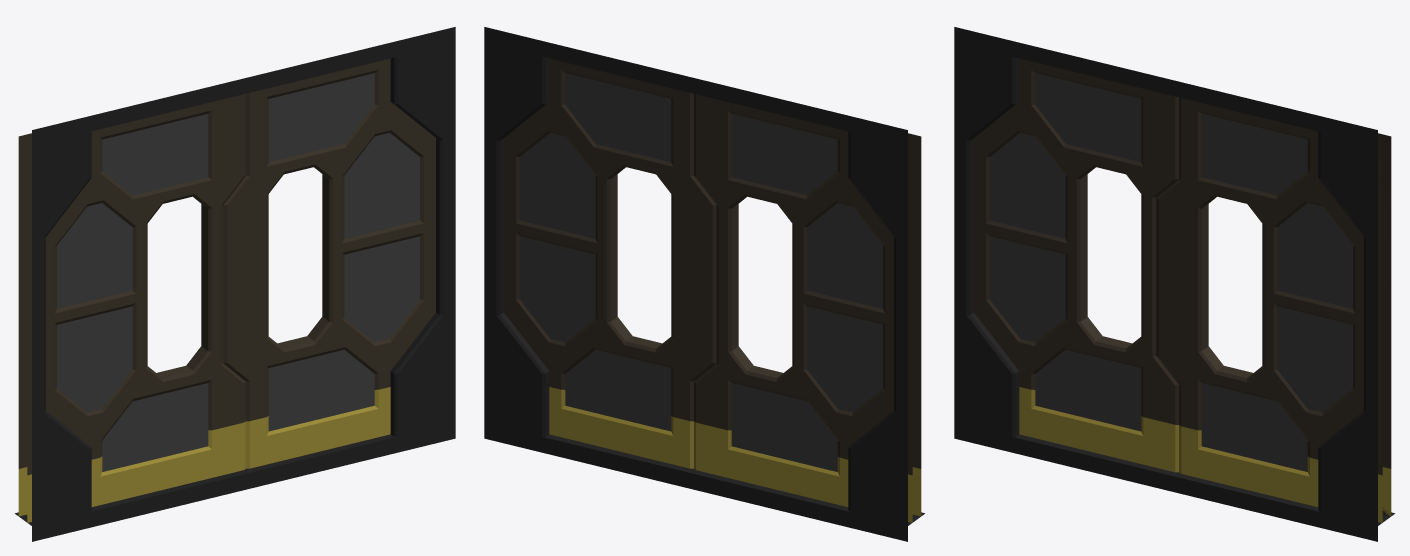
Rendered from HaloCE_CruiserCorridorDoor.obj.
3 renders of one model, left to right at view 1: azimuth 30°, elevation 25°; view 2: azimuth 150°, elevation 25°; view 3: azimuth 330°, elevation 25°, orthographic.
Visible parts, largest first — view 1: Door_Secondary_Cube.004, Door_Primary_Cube.002, Cube.001_Cube.003; view 2: Door_Secondary_Cube.004, Door_Primary_Cube.002, Cube.001_Cube.003; view 3: Door_Primary_Cube.002, Door_Secondary_Cube.004, Cube.001_Cube.003.
Part boxes in pixels (x1,y1,x2,y2): Door_Secondary_Cube.004: (18,94,245,522); Door_Primary_Cube.002: (223,58,435,468); Cube.001_Cube.003: (15,27,455,541); Door_Secondary_Cube.004: (694,94,921,522); Door_Primary_Cube.002: (504,58,716,468); Cube.001_Cube.003: (484,27,924,541); Door_Primary_Cube.002: (1156,97,1391,522); Door_Secondary_Cube.004: (974,58,1178,472); Cube.001_Cube.003: (954,27,1394,541).
Bounding box in the file's own units: 2.8 × 2.6 × 0.2.
